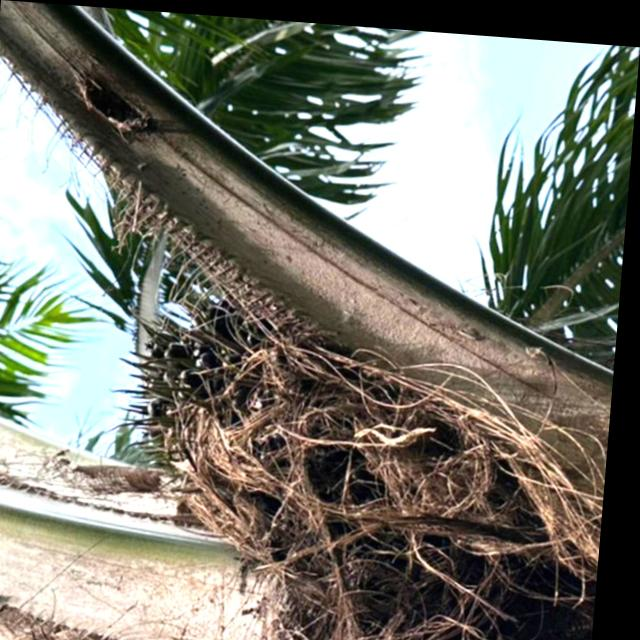unripe: (99, 264, 427, 579)
